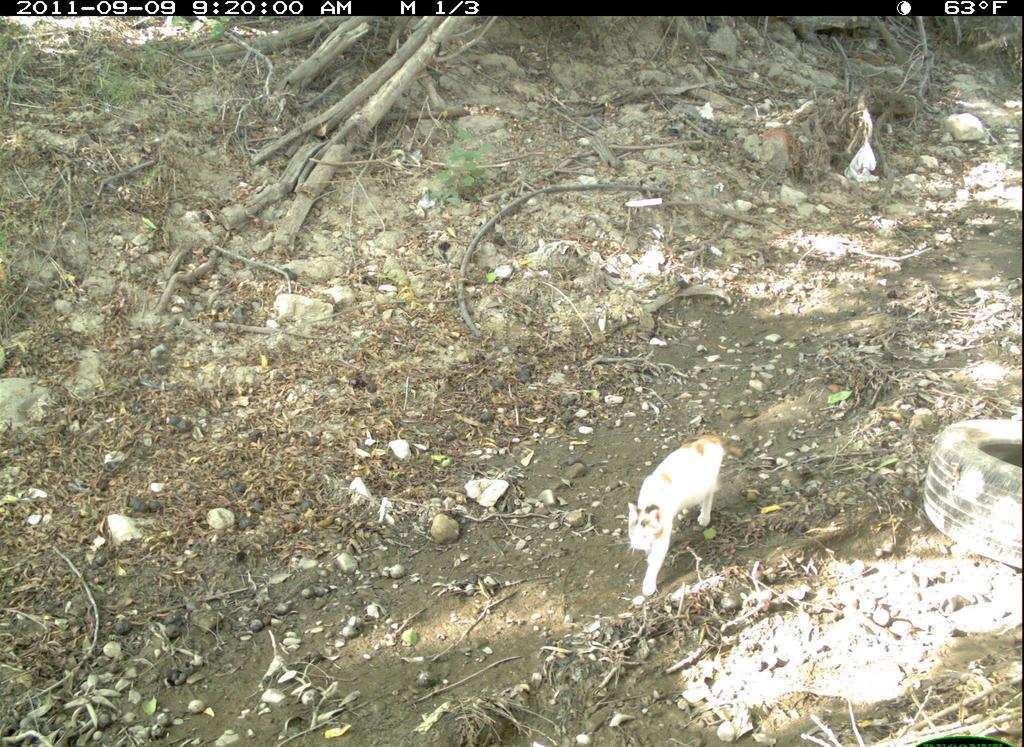cat: (619, 425, 743, 614)
